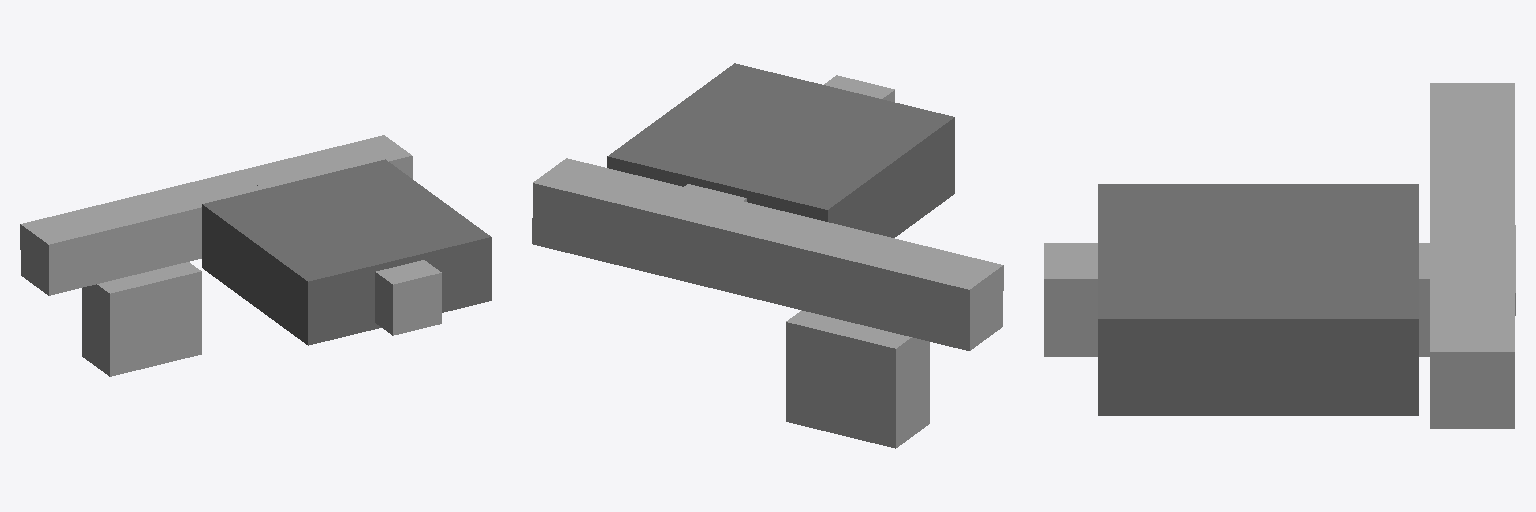
robot.urdf — moveo:
<?xml version="1.0"?>
<robot name="moveo">

  <!-- Base -->
  <link name="base_link">
    <visual>
      <origin xyz="0 0 0.13" rpy="0 0 0"/>
      <geometry>
        <box size="0.3 0.3 0.1"/>
      </geometry>
      <material name="">
        <color rgba="0.5 0.5 0.5 1"/>
      </material>
    </visual>
  </link>

  <!-- Joint 1 - Shoulder (Yaw) -->
  <joint name="Joint_1" type="revolute">
    <origin xyz="0 0 0.13" rpy="0 0 0"/>
    <parent link="base_link"/>
    <child link="Link_1"/>
    <axis xyz="0 0 1"/>
    <limit lower="-3.14" upper="3.14" effort="10" velocity="2"/>
  </joint>

  <link name="Link_1">
    <visual>
      <origin xyz="0 0 0" rpy="0 0 0"/>
      <geometry>
        <box size="0.08 0.4 0.08"/>
      </geometry>
      <material name="">
        <color rgba="0.7 0.7 0.7 1"/>
      </material>
    </visual>
  </link>

  <!-- Joint 2 - Shoulder Pitch -->
  <joint name="Joint_2" type="revolute">
    <origin xyz="0 0.2 0" rpy="0 1.57 0"/>
    <parent link="Link_1"/>
    <child link="Link_2"/>
    <axis xyz="0 1 0"/>
    <limit lower="-2.0" upper="2.0" effort="10" velocity="2"/>
  </joint>

  <link name="Link_2">
    <visual>
      <origin xyz="0 0 0" rpy="0 0 0"/>
      <geometry>
        <box size="0.08 0.08 0.4"/>
      </geometry>
      <material name="">
        <color rgba="0.7 0.7 0.7 1"/>
      </material>
    </visual>
  </link>

  <!-- Joint 3 - Elbow -->
  <joint name="Joint_3" type="revolute">
    <origin xyz="0 0 -0.22" rpy="0 0 0"/>
    <parent link="Link_2"/>
    <child link="Link_3"/>
    <axis xyz="0 1 0"/>
    <limit lower="-2.0" upper="2.0" effort="10" velocity="2"/>
  </joint>

  <link name="Link_3">
    <visual>
      <origin xyz="0 0 0" rpy="0 0 0"/>
      <geometry>
        <box size="0.08 0.08 0.35"/>
      </geometry>
      <material name="">
        <color rgba="0.7 0.7 0.7 1"/>
      </material>
    </visual>
  </link>

  <!-- Joint 4 - Wrist Roll -->
  <joint name="Joint_4" type="revolute">
    <origin xyz="0.15 0 0" rpy="0 0 1.57"/>
    <parent link="Link_3"/>
    <child link="Link_4"/>
    <axis xyz="0 0 1"/>
    <limit lower="-3.14" upper="3.14" effort="5" velocity="2"/>
  </joint>

  <link name="Link_4">
    <visual>
      <origin xyz="0 0 0" rpy="0 0 0"/>
      <geometry>
        <box size="0.08 0.08 0.15"/>
      </geometry>
      <material name="">
        <color rgba="0.7 0.7 0.7 1"/>
      </material>
    </visual>
  </link>

  <!-- Joint 5 - Wrist Pitch -->
  <joint name="Joint_5" type="revolute">
    <origin xyz="0 0.05 0" rpy="0 0 0"/>
    <parent link="Link_4"/>
    <child link="Link_5"/>
    <axis xyz="0 1 0"/>
    <limit lower="-2.0" upper="2.0" effort="5" velocity="2"/>
  </joint>

  <link name="Link_5">
    <visual>
      <origin xyz="0 0 0" rpy="0 0 0"/>
      <geometry>
        <box size="0.08 0.08 0.15"/>
      </geometry>
      <material name="">
        <color rgba="0.7 0.7 0.7 1"/>
      </material>
    </visual>
  </link>

  <!-- ros2_control -->
  <ros2_control name="MoveoHardware" type="system">
    <hardware>
      <plugin>mock_components/GenericSystem</plugin>
    </hardware>
    <joint name="Joint_1">
      <command_interface name="position"/>
      <state_interface name="position"/>
    </joint>
    <joint name="Joint_2">
      <command_interface name="position"/>
      <state_interface name="position"/>
    </joint>
    <joint name="Joint_3">
      <command_interface name="position"/>
      <state_interface name="position"/>
    </joint>
    <joint name="Joint_4">
      <command_interface name="position"/>
      <state_interface name="position"/>
    </joint>
    <joint name="Joint_5">
      <command_interface name="position"/>
      <state_interface name="position"/>
    </joint>
  </ros2_control>

</robot>

--- Render facts (derived) ---
Views: 3 orthographic renders of the robot side by side, from view 1: azimuth 30°, elevation 25°; view 2: azimuth 150°, elevation 25°; view 3: azimuth 270°, elevation 25°.
Model moveo with 6 links and 5 joints (5 revolute), rooted at base_link, posed every joint at zero.
Visible links, largest first — view 1: base_link, Link_3, Link_2, Link_5, Link_4, Link_1; view 2: base_link, Link_2, Link_3, Link_5, Link_4, Link_1; view 3: base_link, Link_2, Link_3, Link_1.
Link boxes in pixels (x1,y1,x2,y2): base_link: [202, 159, 491, 345]; Link_3: [20, 172, 243, 295]; Link_2: [141, 135, 412, 266]; Link_5: [82, 262, 201, 344]; Link_4: [82, 306, 201, 376]; Link_1: [252, 175, 441, 335]; base_link: [607, 63, 954, 237]; Link_2: [532, 158, 859, 315]; Link_3: [712, 204, 1003, 350]; Link_5: [786, 310, 929, 409]; Link_4: [786, 360, 929, 448]; Link_1: [684, 75, 894, 213]; base_link: [1098, 184, 1418, 415]; Link_2: [1430, 171, 1514, 428]; Link_3: [1430, 83, 1514, 236]; Link_1: [1044, 243, 1472, 356].
Size in the robot's own frame: 0.5951 by 0.4401 by 0.2403 metres.
Geometry: primitives only (box / cylinder / sphere), no mesh files.
